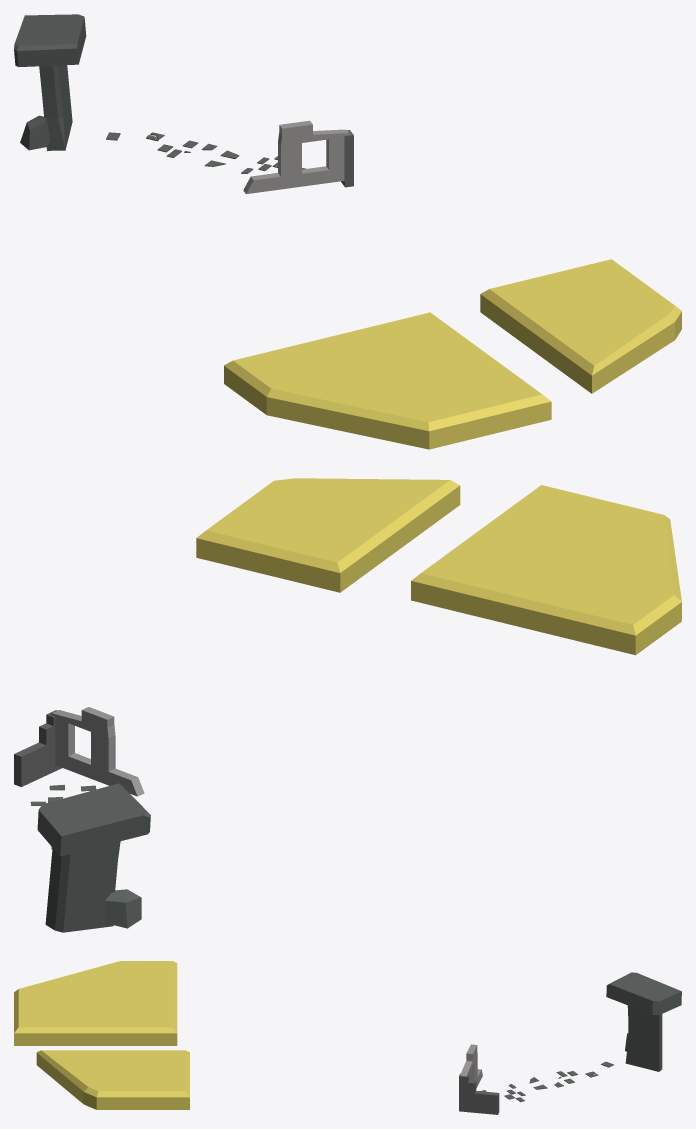
The model's file is SM_nocollisionIslandOneHouse.fbx.
3 views of the same model, one above another, from view 1: azimuth 30°, elevation 25°; view 2: azimuth 150°, elevation 25°; view 3: azimuth 270°, elevation 25° (orthographic). The views are drawn at different scales.
Visible parts, largest first — view 1: Wheat.001, Wheat.004, Cube.065, Derelict.002, STREET_stones.003, Cube.066; view 2: Wheat.001, Wheat.004, Cube.065, Derelict.002, Derelict.001, Cube.066; view 3: Wheat.001, Wheat.004, Cube.065, Derelict.001, STREET_stones.003, Derelict.002.
Boxes of the visible parts, bbox=[...] form: Wheat.001: bbox=[224, 312, 551, 449]; Wheat.004: bbox=[480, 259, 681, 393]; Cube.065: bbox=[14, 14, 86, 150]; Derelict.002: bbox=[243, 120, 350, 194]; STREET_stones.003: bbox=[106, 132, 306, 173]; Cube.066: bbox=[20, 115, 49, 150]; Wheat.001: bbox=[411, 485, 681, 655]; Wheat.004: bbox=[196, 478, 460, 592]; Cube.065: bbox=[37, 783, 150, 932]; Derelict.002: bbox=[50, 707, 144, 796]; Derelict.001: bbox=[14, 710, 61, 786]; Cube.066: bbox=[105, 889, 141, 928]; Wheat.001: bbox=[14, 961, 177, 1045]; Wheat.004: bbox=[36, 1050, 189, 1109]; Cube.065: bbox=[606, 972, 681, 1071]; Derelict.001: bbox=[459, 1073, 499, 1114]; STREET_stones.003: bbox=[480, 1061, 613, 1102]; Derelict.002: bbox=[460, 1044, 482, 1088].
Size of the model in its own units: 1511 by 422 by 3180.
